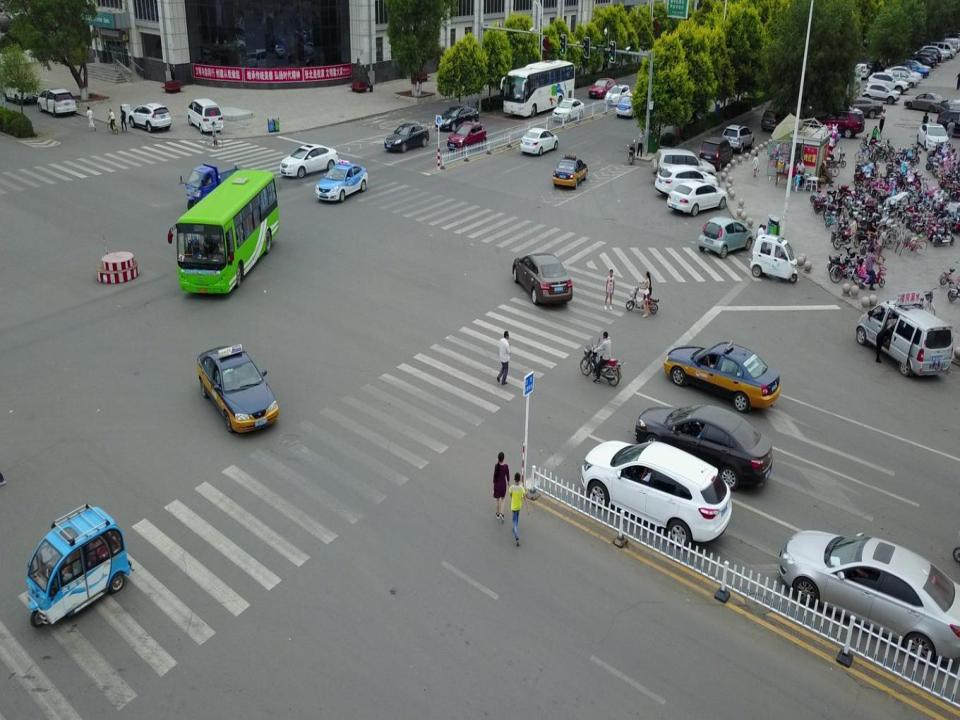bus: (172, 168, 278, 298), (496, 58, 578, 117)
car: (779, 529, 960, 678), (580, 436, 732, 550), (634, 405, 772, 492), (664, 337, 781, 410), (195, 345, 279, 436), (512, 252, 572, 307), (315, 161, 370, 205), (667, 179, 726, 219), (698, 217, 753, 259), (818, 101, 866, 142), (281, 145, 339, 178), (652, 148, 714, 178), (654, 170, 718, 198), (128, 100, 172, 132), (384, 124, 430, 153), (435, 103, 478, 134), (553, 153, 587, 189), (447, 124, 486, 154), (38, 90, 78, 119), (518, 127, 556, 157), (722, 122, 755, 156), (867, 70, 910, 95), (701, 138, 733, 168), (761, 103, 793, 132), (918, 124, 950, 153), (4, 79, 37, 106), (850, 95, 884, 121), (862, 82, 899, 105), (904, 94, 948, 113), (551, 99, 583, 124), (615, 92, 642, 120), (887, 68, 919, 90), (590, 76, 616, 101), (888, 66, 922, 83), (900, 58, 932, 76), (937, 109, 960, 133), (605, 85, 630, 106), (939, 101, 960, 124), (923, 44, 951, 60), (919, 46, 942, 63), (912, 51, 938, 65), (912, 55, 935, 68), (855, 63, 869, 79)
van: (26, 504, 128, 626), (856, 300, 954, 378), (749, 236, 800, 284), (187, 97, 222, 134), (930, 42, 956, 58)
